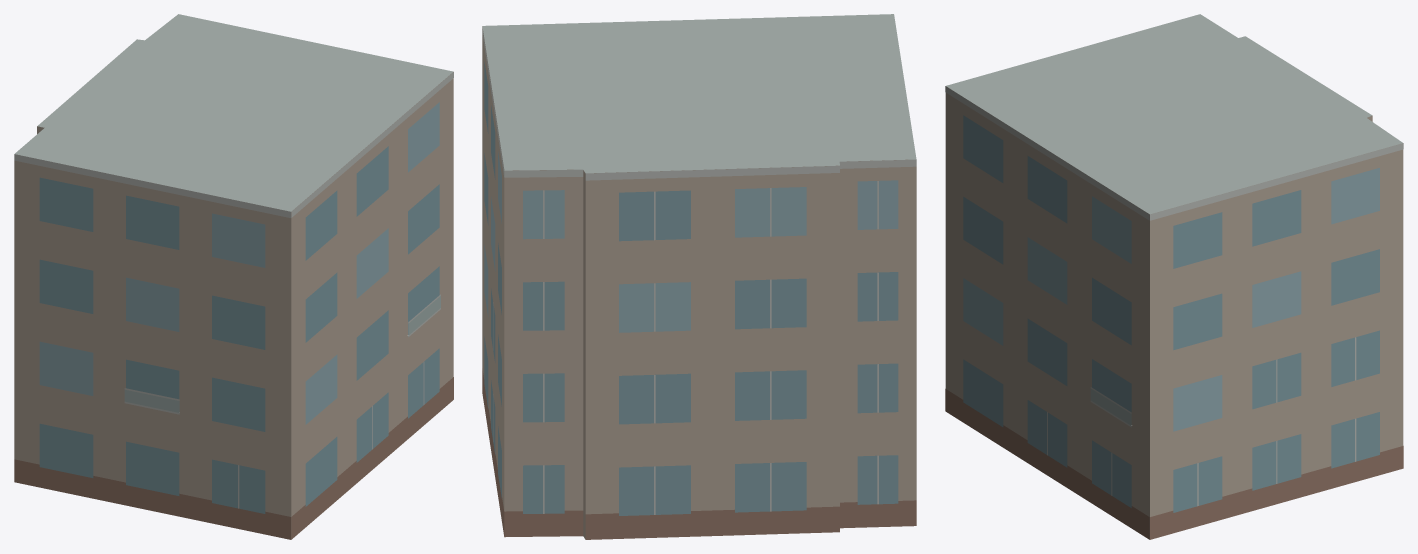
Rendered from survey-upis-32625121.glb.
3 renders of one model, left to right at view 1: azimuth 30°, elevation 25°; view 2: azimuth 150°, elevation 25°; view 3: azimuth 270°, elevation 25°, orthographic. The views are drawn at different scales.
Parts seen in each view (by area): view 1: survey-upis-32625121.tmp; view 2: survey-upis-32625121.tmp; view 3: survey-upis-32625121.tmp.
Part boxes in pixels (x1,y1,x2,y2): survey-upis-32625121.tmp: [14, 14, 453, 539]; survey-upis-32625121.tmp: [482, 14, 916, 539]; survey-upis-32625121.tmp: [945, 14, 1403, 539].
Bounding box in the file's own units: 16.32 × 12.35 × 15.76.
